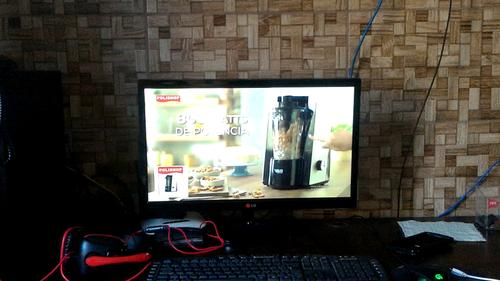Polishop #1: (154, 165, 189, 198)
